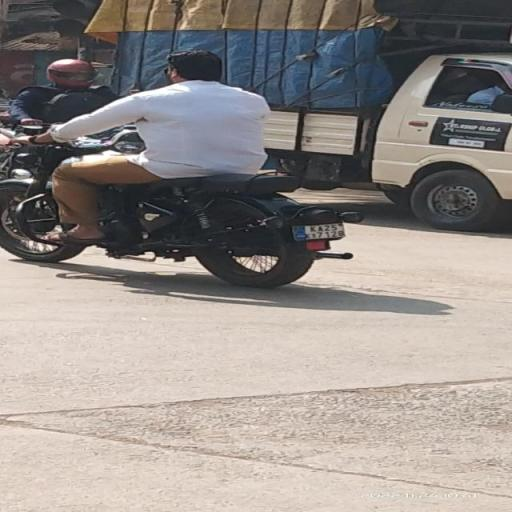bike: (6, 40, 360, 292)
numberplate: (289, 218, 350, 244)
withouthelmet: (166, 52, 222, 82)
